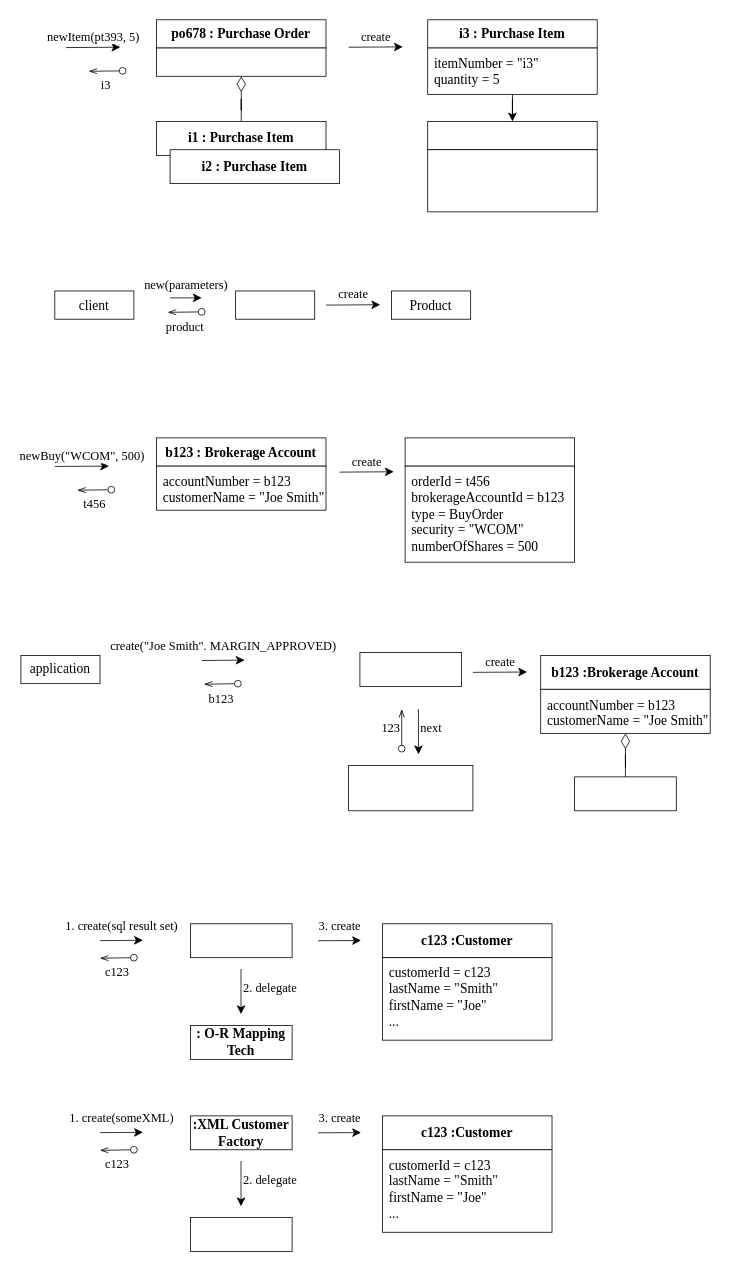
The diagram is 730 pixels wide and 1271 high, and some of its shapes have lost their labels. The centre of each missing label's shape, as x and y in pixels:
:Brokerage Account Factory: pixel 410 669
:Margin Account: pixel 625 793
:SQL Customer Factory: pixel 241 940
:XML Parser: pixel 241 1234
brokerage account number sequence: pixel 410 788
Factory: pixel 275 304
id = b123: pixel 241 61
partNumber = "pt393" description = "light bulb" price = $1.50: pixel 512 180
pt393 : Catalog Part: pixel 512 135
t456 : TradeOrder: pixel 489 451
